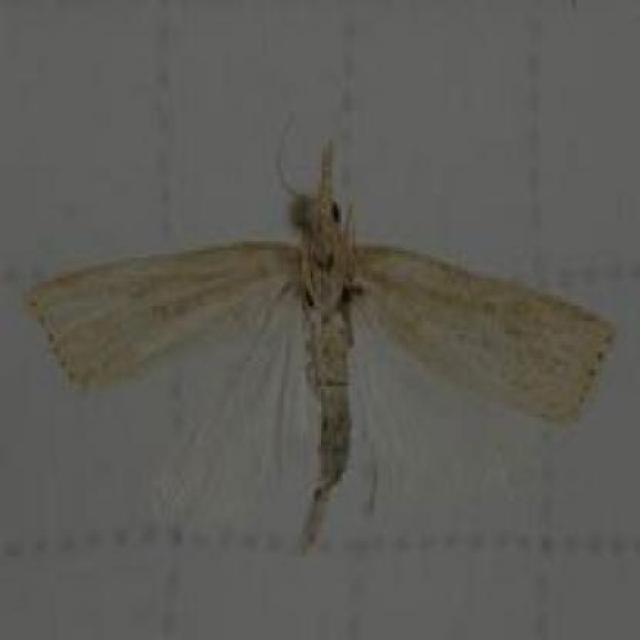stem-borer: (22, 139, 620, 533)
